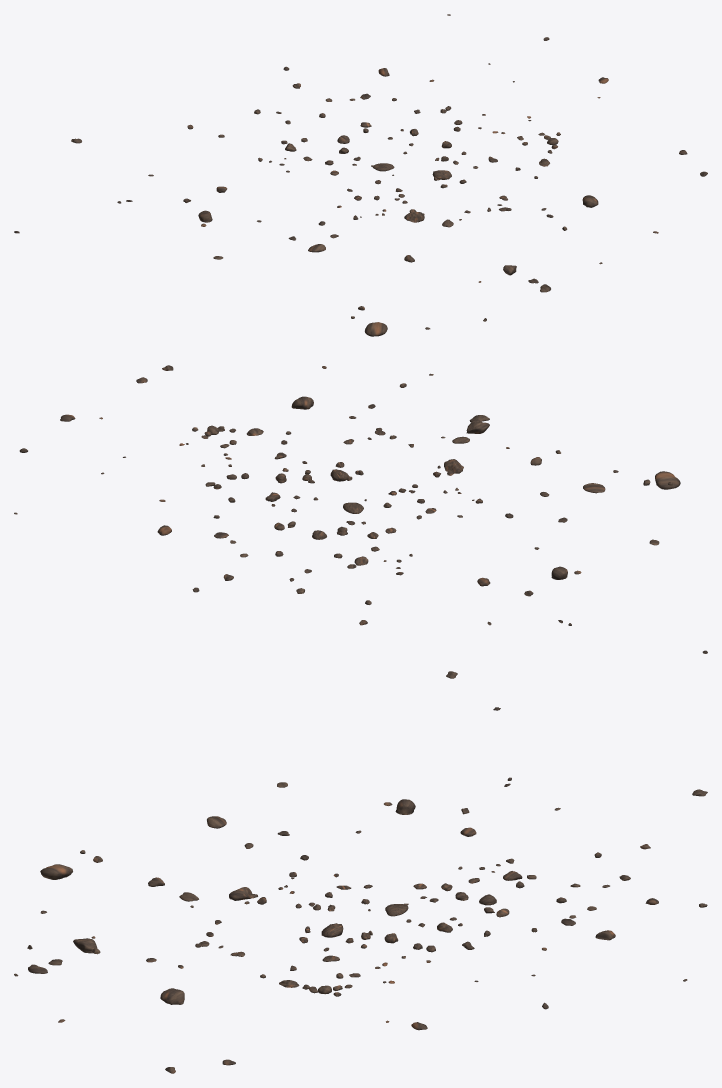
Rendered from rock_field_3.dae.
The picture shows the model from 3 angles, top to bottom: view 1: azimuth 30°, elevation 25°; view 2: azimuth 150°, elevation 25°; view 3: azimuth 270°, elevation 25°; orthographic projection. The views are drawn at different scales.
Parts seen in each view (by area): view 1: rock_field_3; view 2: rock_field_3; view 3: rock_field_3.
Part boxes in pixels (<box>): rock_field_3: <box>14,14,707,336</box>; rock_field_3: <box>14,365,707,678</box>; rock_field_3: <box>14,707,707,1073</box>.
Bounding box in the file's own units: 26.42 × 20.57 × 3.62.
Materials: 1 (1 with a texture image).
